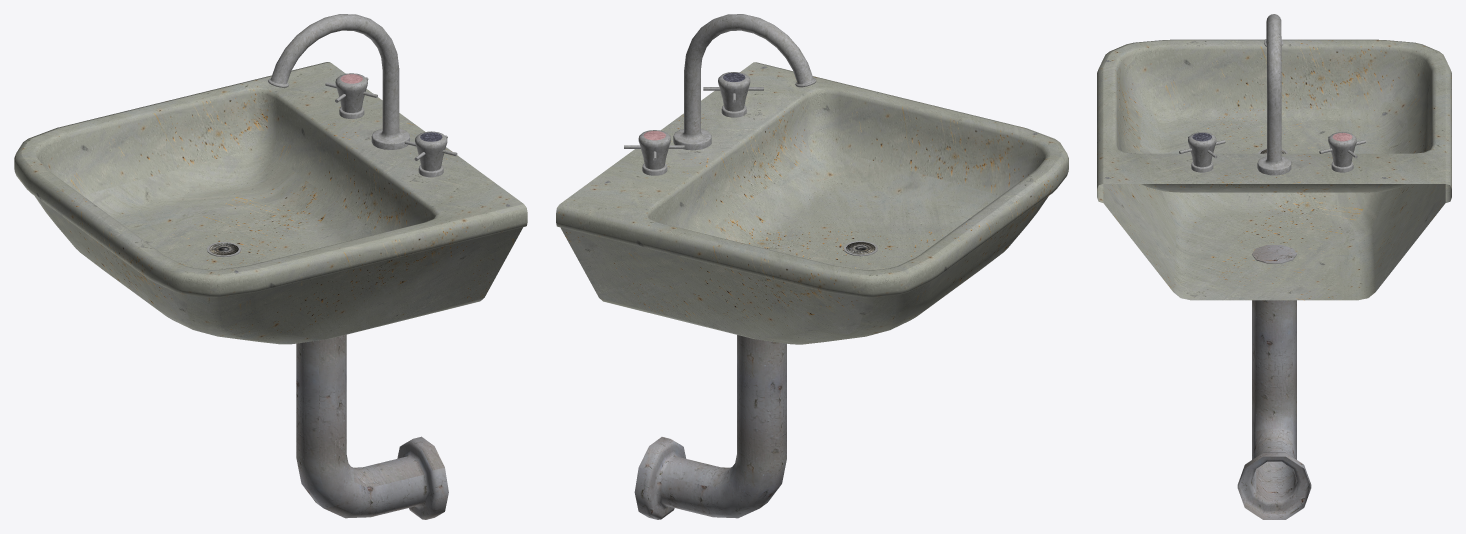
Rendered from Sink.FBX.
3 views of the same model, side by side, from view 1: azimuth 30°, elevation 25°; view 2: azimuth 150°, elevation 25°; view 3: azimuth 270°, elevation 25° (orthographic). The views are drawn at different scales.
Parts seen in each view (by area): view 1: Sink; view 2: Sink; view 3: Sink.
Boxes of the visible parts, box(x1,y1,x2,y2) form: Sink: box(14, 14, 527, 519); Sink: box(556, 14, 1068, 519); Sink: box(1097, 14, 1451, 519).
Bounding box in the file's own units: 319 × 466 × 327.
